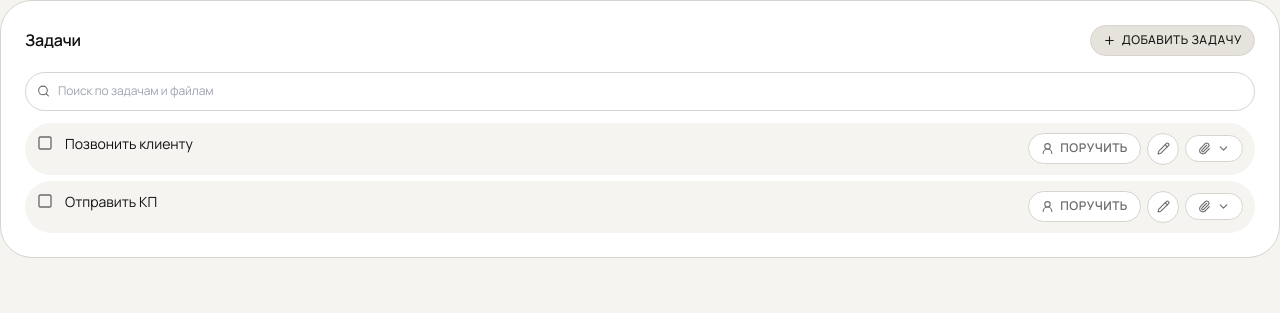
TASK-ROW-02b — общий mutation-объект: race между двумя строками › успех задачи 1, пришедший после того как открыта и выбрана задача 2, не должен закрывать/сбрасывать ещё not-resolved состояние задачи 2
// Задача 1: открыть и выбрать — запрос 1 висит.
Click the button titled "Поручить задачу сотруднику" in the row of "Позвонить клиенту": coordinates (1085, 149) [1028,133,1141,164]
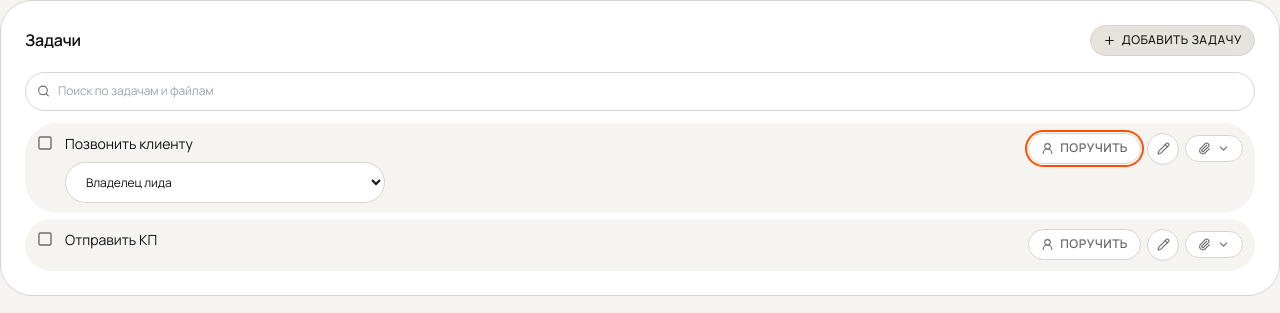
Select "Кирилл · Менеджер" in the dropdown named "Кому поручить задачу": coordinates (225, 182) [65,162,385,203]
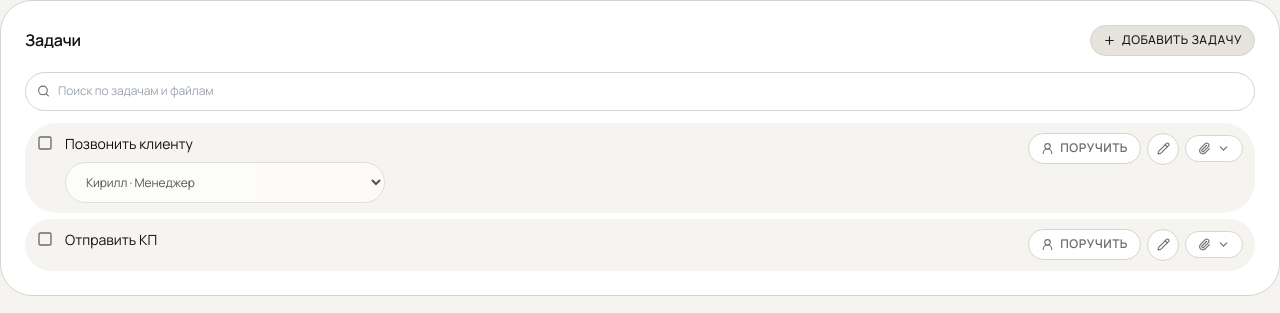
Click the button titled "Поручить задачу сотруднику" in the row of "Отправить КП": coordinates (1085, 245) [1028,229,1141,260]
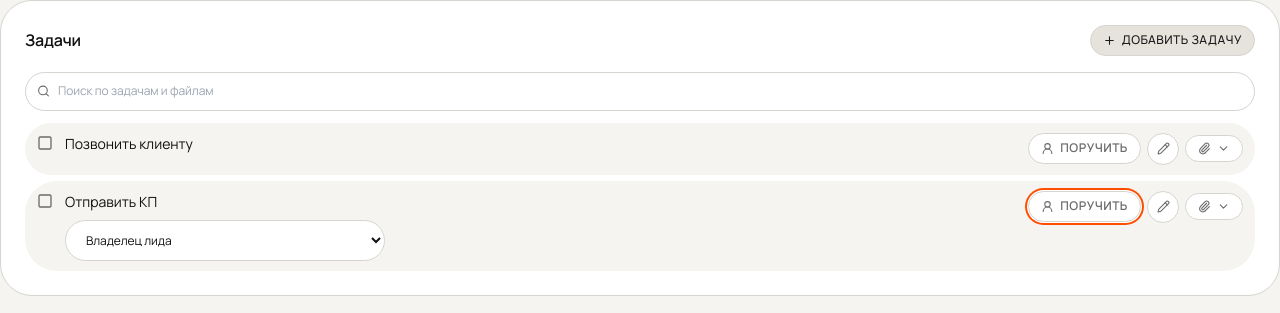
Select "Пётр · Менеджер" in the dropdown named "Кому поручить задачу": coordinates (225, 240) [65,220,385,261]
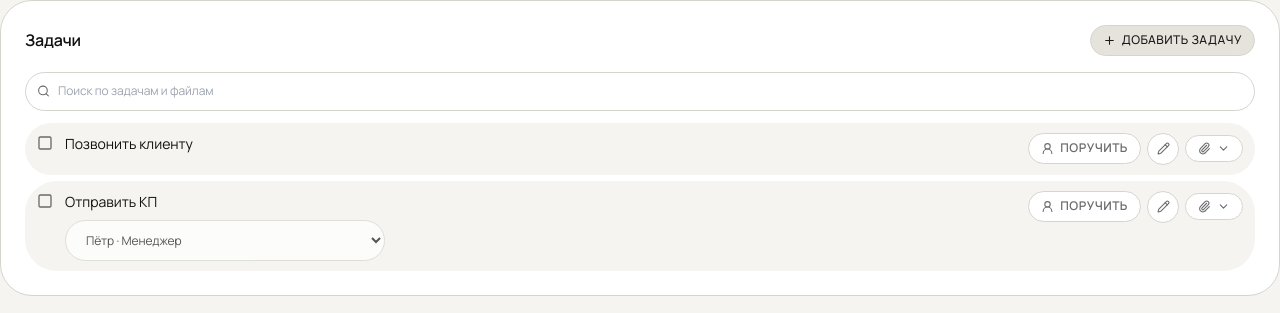
Result: the dropdown named "Кому поручить задачу" is disabled at [65,220,385,261]
